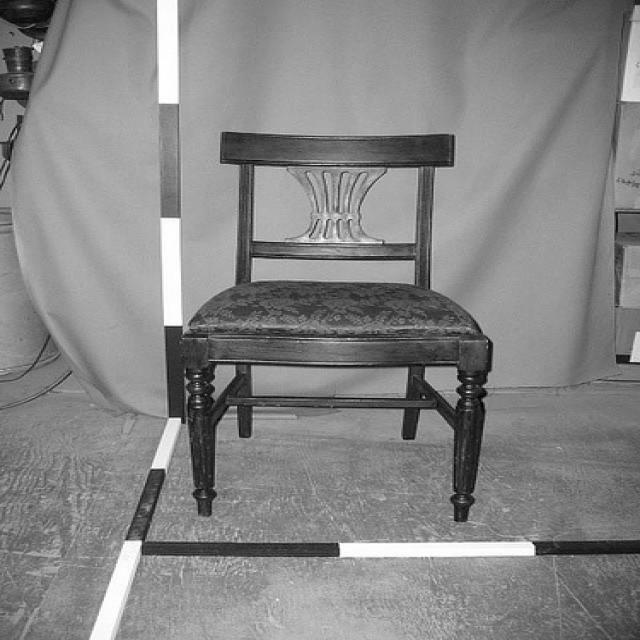chair: (180, 133, 496, 521)
